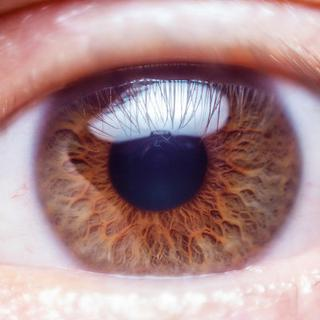pupil: (109, 113, 206, 210)
